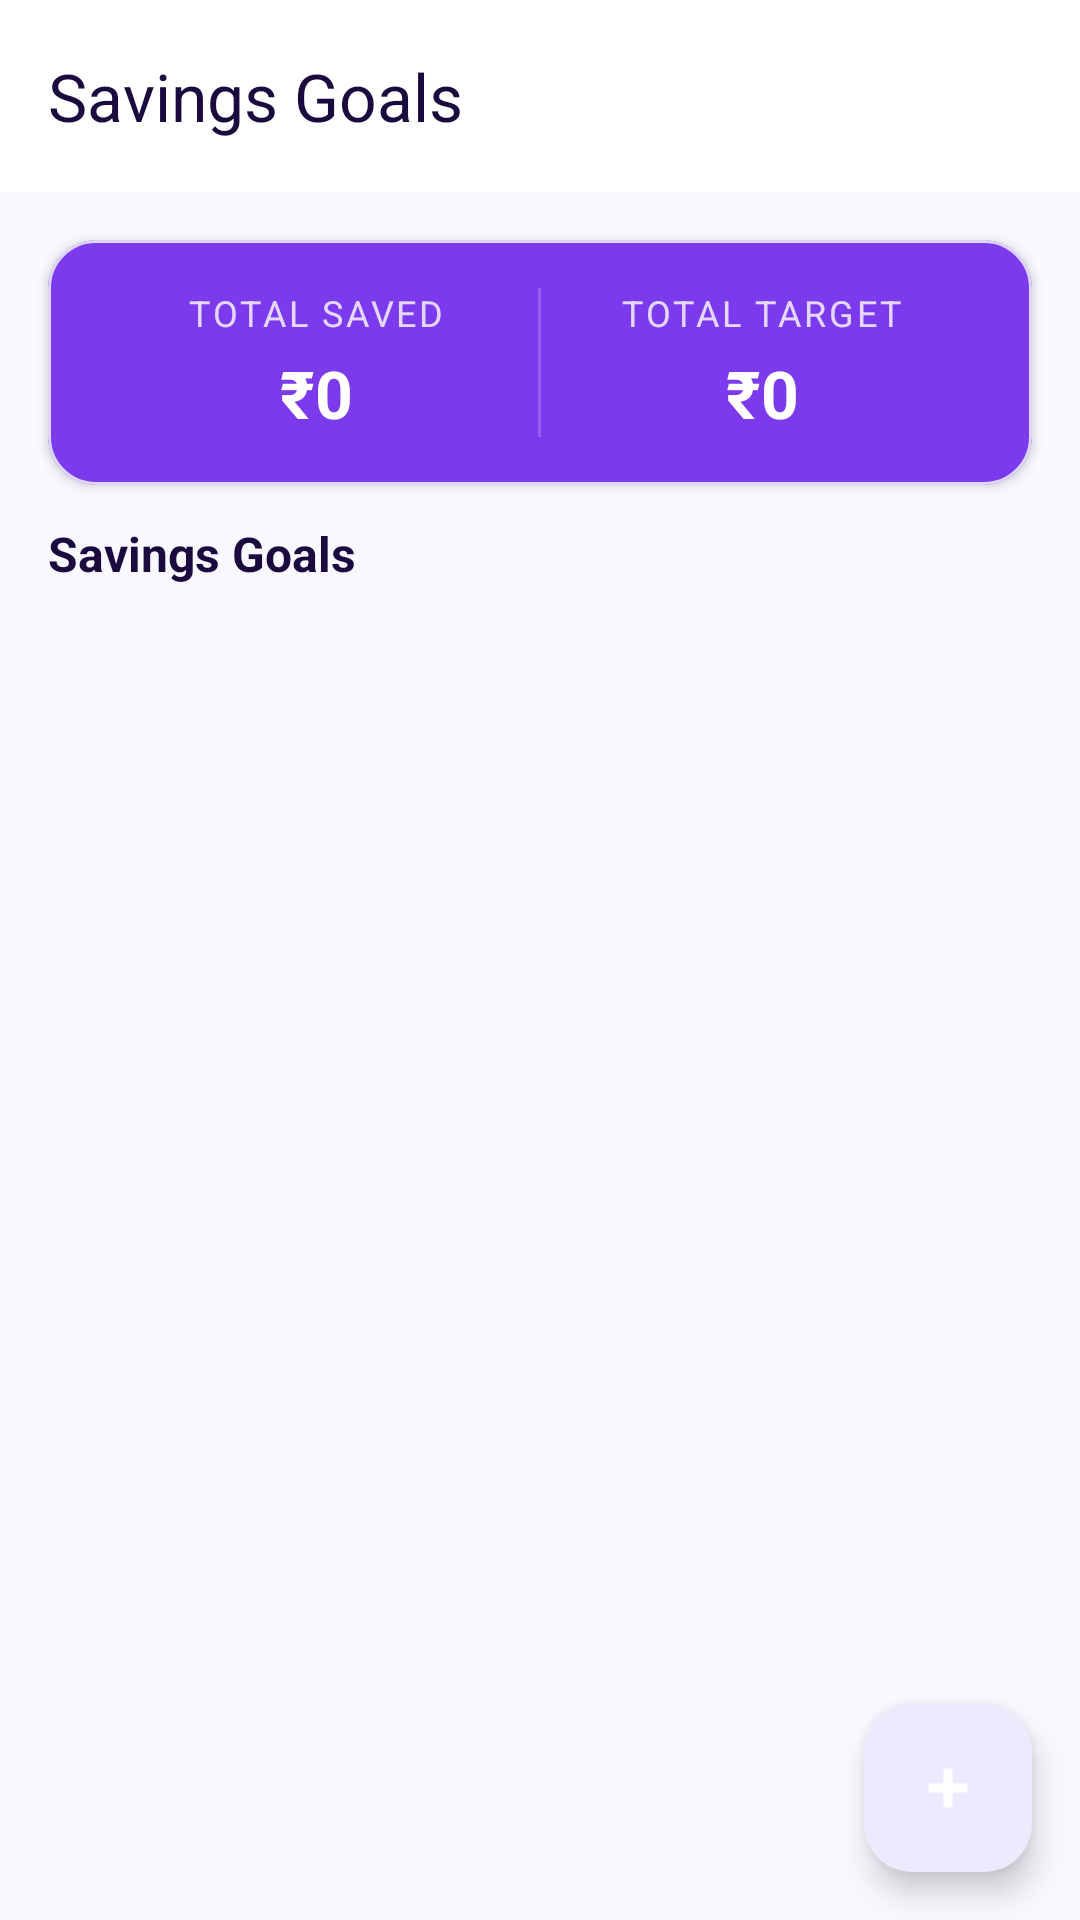

Screen size 1080x1920. Icon name, then its center in pixels as [x,y]:
Add Goal: [948,1788]
